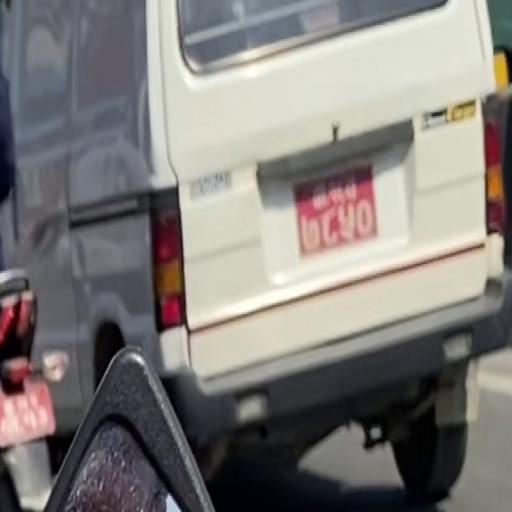license_plate: (290, 143, 383, 264), (0, 373, 63, 453)
